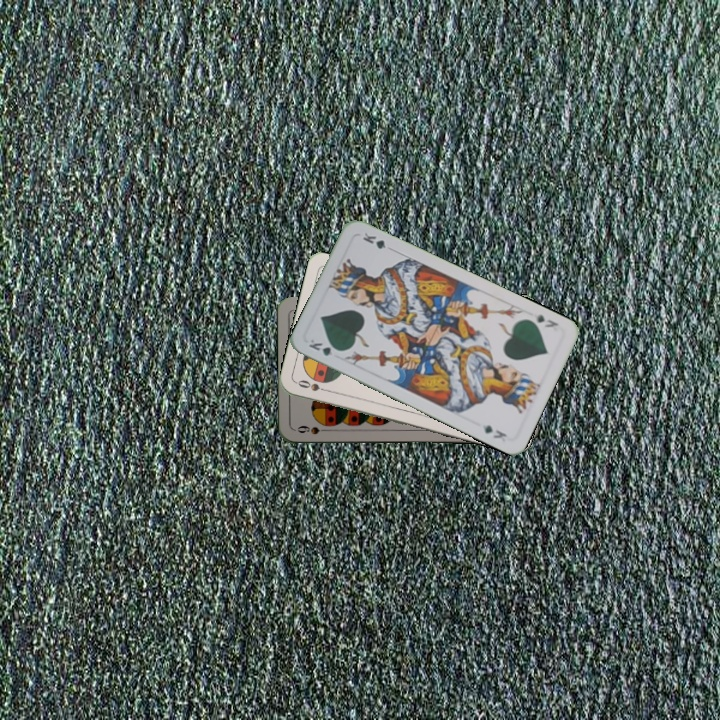GK: (304, 335, 344, 359), (529, 310, 561, 330)
S9: (294, 421, 334, 437)
SO: (293, 376, 333, 395)
